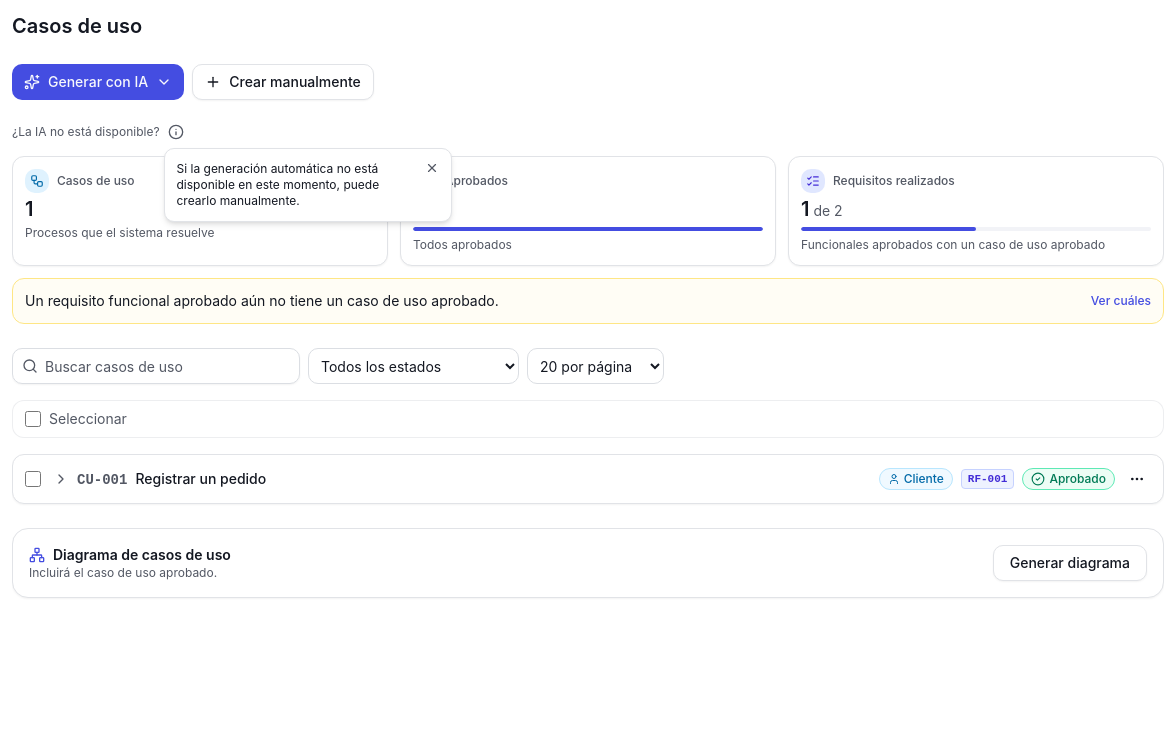
Test: Use cases page › summarises which approved functional requirements have a use case
Click the button "Ver cuáles" at coordinates (1121, 301), box [1091,293,1151,309]
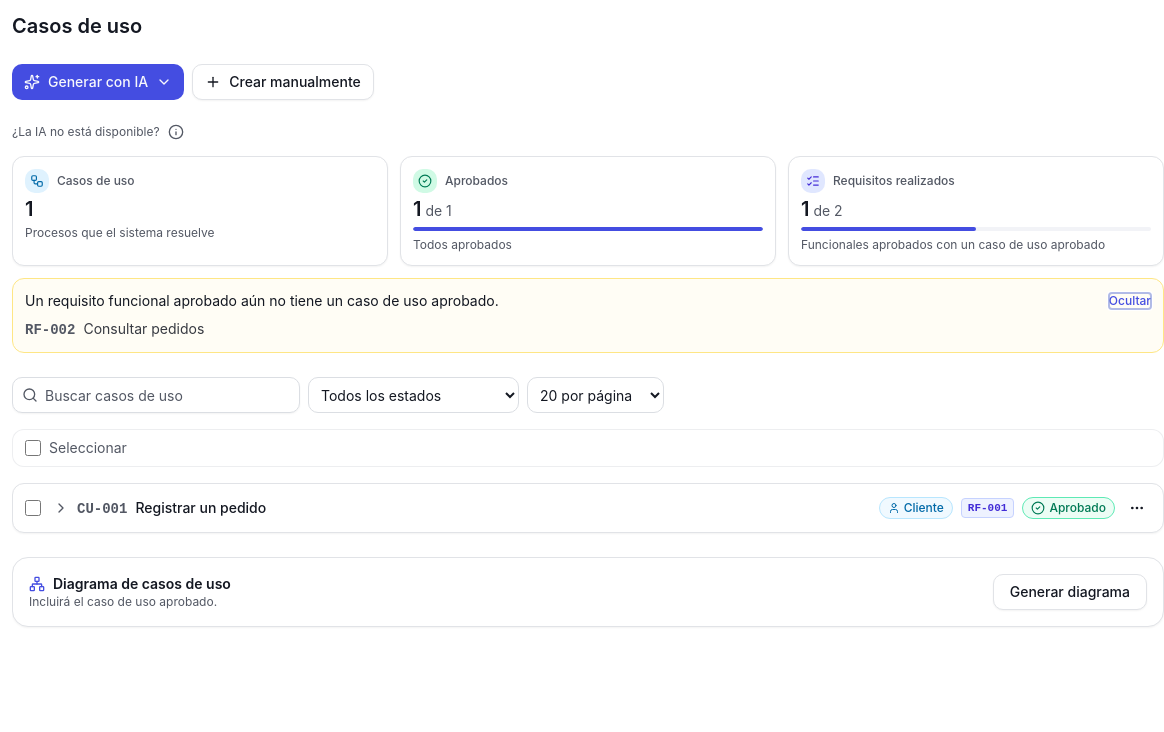
Result: the list named "Requisitos sin caso de uso" reads "RF-002 Consultar pedidos" at [25,320,204,338]
